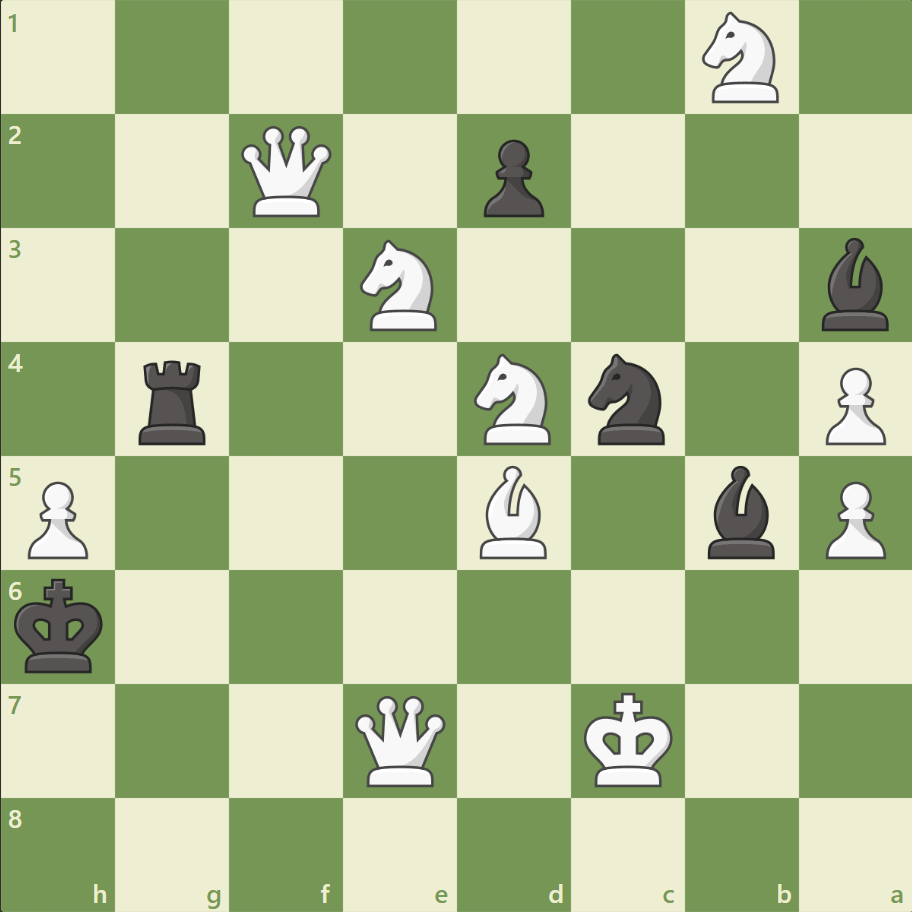B: (471, 460, 555, 563)
K: (579, 685, 679, 793)
N: (351, 234, 449, 337), (692, 7, 789, 110), (465, 348, 562, 450)
P: (20, 473, 95, 564), (815, 473, 889, 564), (815, 359, 889, 450)
Q: (237, 122, 336, 222), (351, 690, 450, 789)
b: (698, 460, 782, 563), (812, 233, 896, 336)
k: (11, 571, 111, 679)
n: (579, 348, 676, 450)
p: (474, 132, 549, 223)
r: (133, 352, 215, 449)
